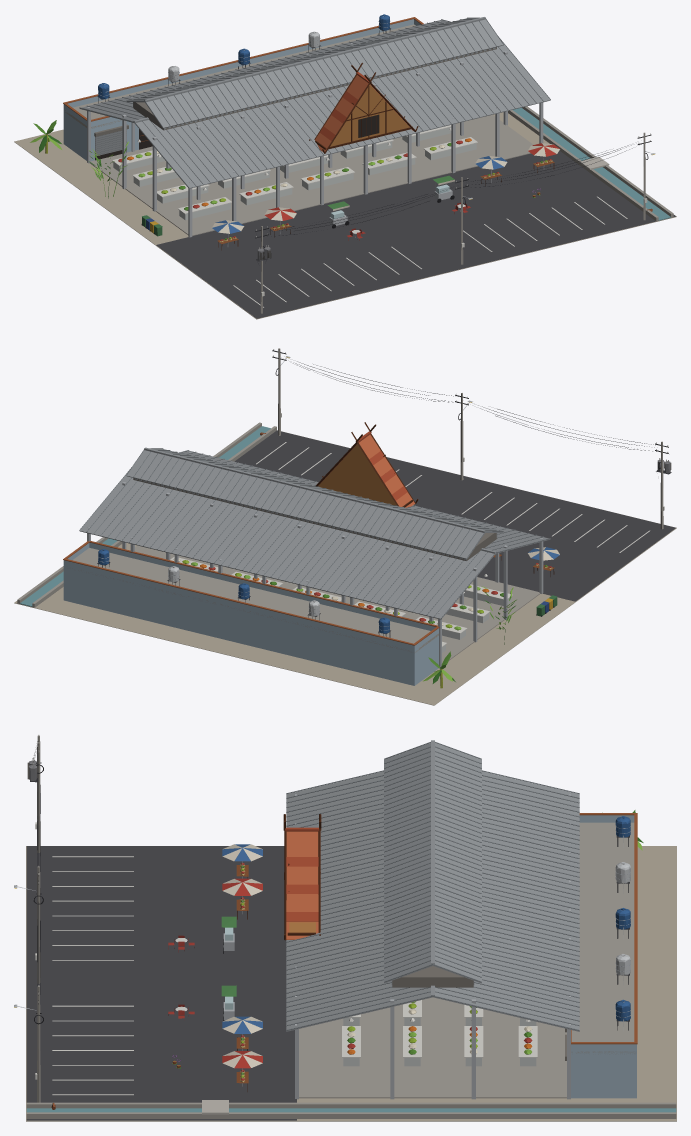
Rendered from market.glb.
3 renders of one model, top to bottom at view 1: azimuth 30°, elevation 25°; view 2: azimuth 150°, elevation 25°; view 3: azimuth 270°, elevation 25°, orthographic. The views are drawn at different scales.
Parts seen in each view (by area): view 1: body, windows; view 2: body; view 3: body.
Part boxes in pixels (x1,y1,x2,y2): body: [14, 14, 676, 319]; windows: [95, 114, 654, 199]; body: [14, 348, 676, 705]; body: [14, 734, 676, 1121].
Bounding box in the file's own units: 48.09 × 13.7 × 48.78.
